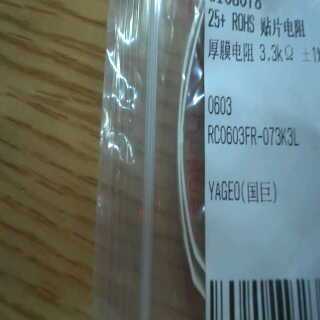3.3kO: (254, 39, 298, 65)
